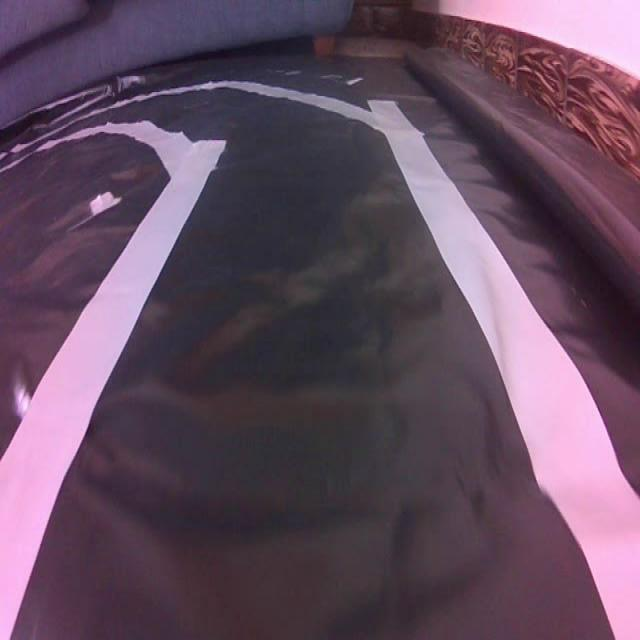LineaCarril: (199, 82, 640, 638), (369, 102, 640, 638), (0, 122, 225, 638)
